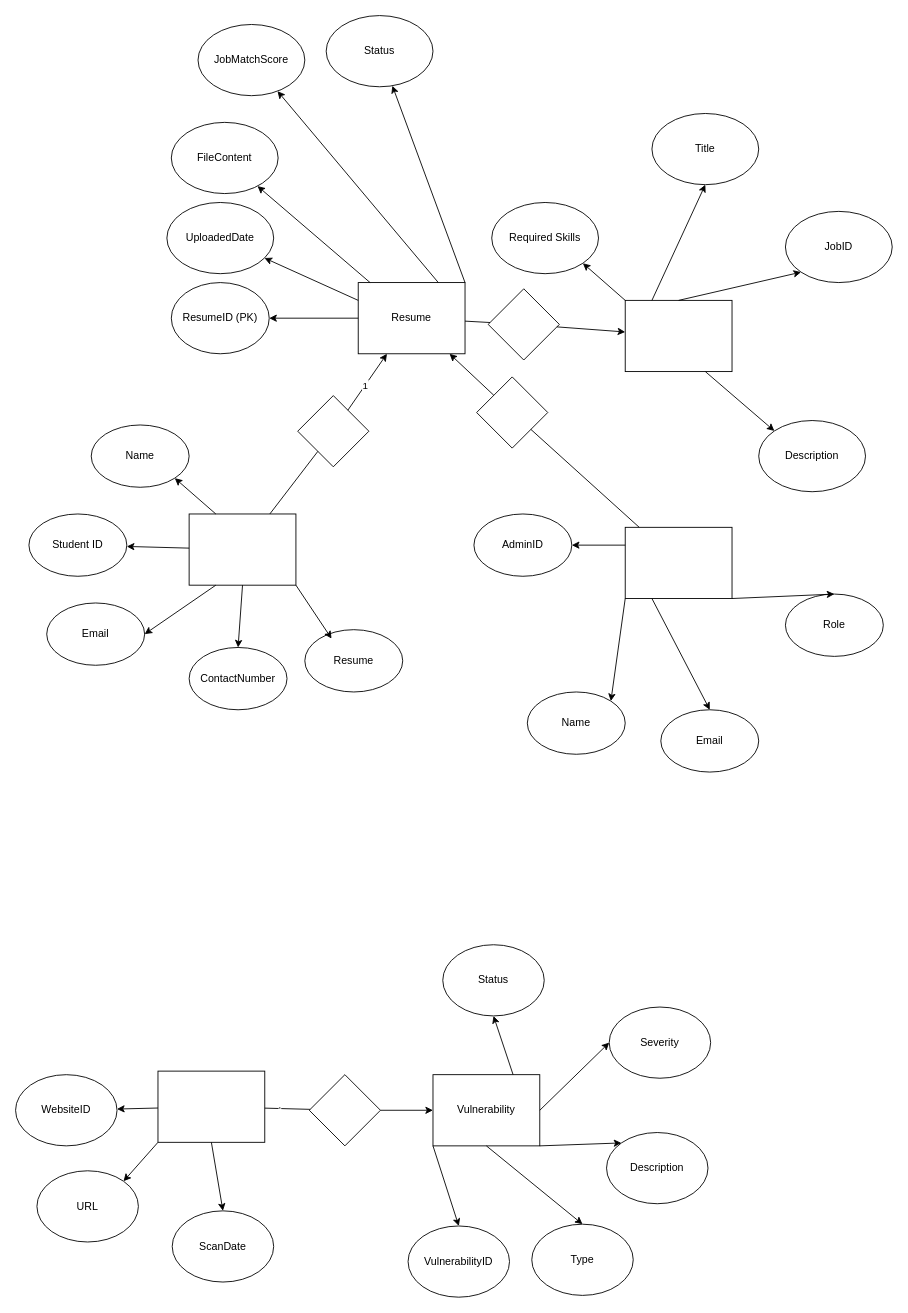
The diagram is 908 pixels wide and 1313 high, and some of its shapes have lost their labels. Each missing label, with the box of its shape:
Admin: (624, 526, 732, 599)
Evaluated Against: (487, 288, 559, 360)
Job: (624, 299, 732, 372)
Manages: (476, 376, 548, 448)
Scanned For: (308, 1074, 380, 1146)
Student: (188, 513, 296, 585)
Uploads: (297, 395, 369, 467)
Website: (157, 1070, 265, 1142)
